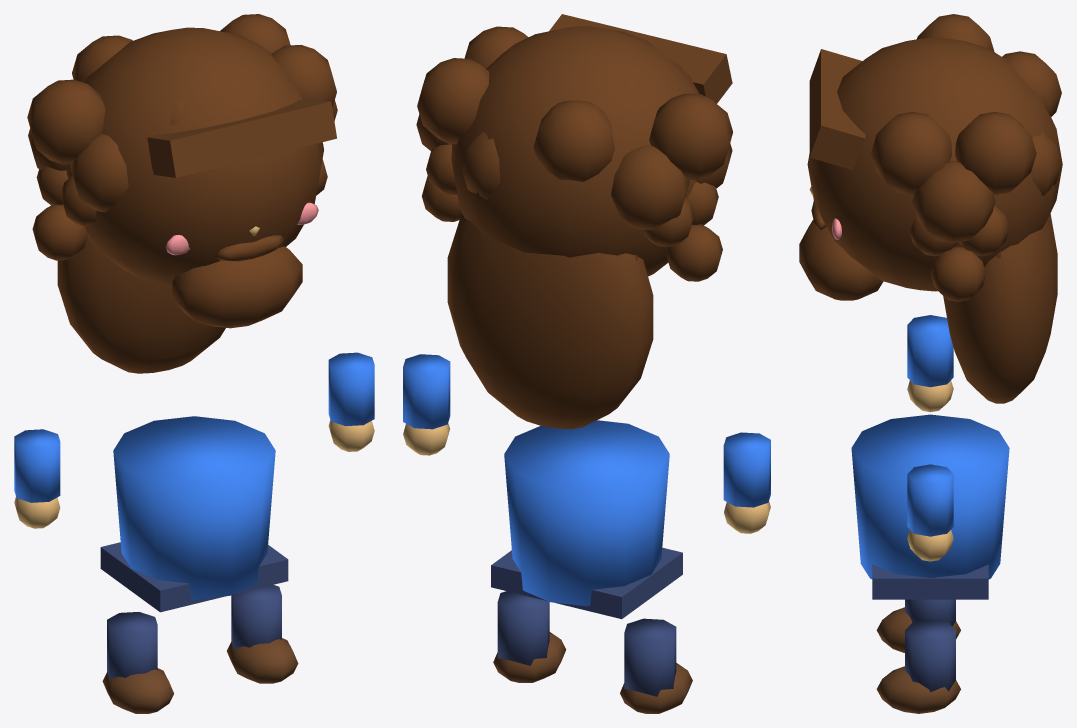
File: character.glb
3 views of the same model, side by side, from view 1: azimuth 30°, elevation 25°; view 2: azimuth 150°, elevation 25°; view 3: azimuth 270°, elevation 25° (orthographic). The views are drawn at different scales.
Parts seen in each view (by area): view 1: Hair_cap, Torso, Hair_curly, Hair_long, Hair_fringe, Facial_beard, Hair_wavy, Belt, ArmRSleeve, ArmLSleeve, LegLMesh, LegRMesh (+5 smaller); view 2: Hair_cap, Hair_long, Torso, Hair_curly, Hair_wavy, Belt, LegLMesh, LegRMesh, ArmRSleeve, ArmLSleeve, Hair_fringe, LegRShoe (+3 smaller); view 3: Hair_cap, Hair_curly, Torso, Hair_long, Hair_fringe, Hair_wavy, Facial_beard, LegRMesh, ArmRSleeve, Belt, ArmLSleeve, LegRShoe (+4 smaller).
Part boxes in pixels (x1,y1,x2,y2): Hair_cap: (66, 27, 323, 285); Torso: (113, 416, 275, 599); Hair_curly: (27, 14, 337, 212); Hair_long: (57, 237, 225, 373); Hair_fringe: (147, 98, 336, 177); Facial_beard: (172, 246, 302, 328); Hair_wavy: (32, 159, 327, 260); Belt: (100, 542, 288, 612); ArmRSleeve: (328, 352, 374, 426); ArmLSleeve: (14, 429, 60, 502); LegLMesh: (107, 612, 157, 680); LegRMesh: (231, 585, 281, 649); Hair_cap: (451, 26, 699, 276); Hair_long: (447, 215, 653, 429); Torso: (504, 420, 669, 606); Hair_curly: (416, 26, 732, 230); Hair_wavy: (421, 144, 722, 281); Belt: (491, 547, 682, 619); LegLMesh: (624, 618, 676, 696); LegRMesh: (497, 591, 549, 665); ArmRSleeve: (403, 354, 450, 429); ArmLSleeve: (723, 432, 770, 507); Hair_fringe: (549, 14, 732, 103); LegRShoe: (493, 632, 566, 682); Hair_cap: (807, 37, 1062, 291); Hair_curly: (871, 14, 1061, 243); Torso: (851, 414, 1009, 579); Hair_long: (943, 213, 1057, 403); Hair_fringe: (809, 49, 865, 170); Hair_wavy: (909, 205, 1016, 301); Facial_beard: (799, 219, 883, 300); LegRMesh: (905, 619, 955, 692); ArmRSleeve: (907, 464, 953, 536); Belt: (872, 564, 988, 599); ArmLSleeve: (907, 315, 953, 387); LegRShoe: (876, 666, 960, 713).
Size of the model in its own units: 1.72 by 3 by 1.13.
